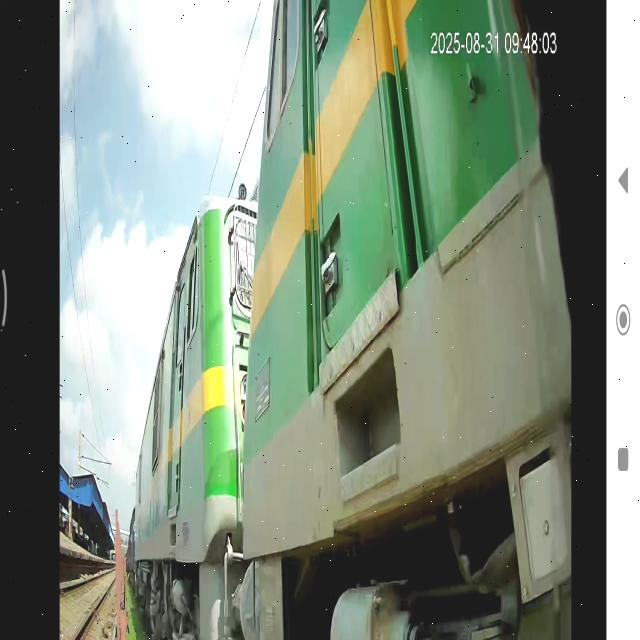joint: (186, 0, 320, 640)
